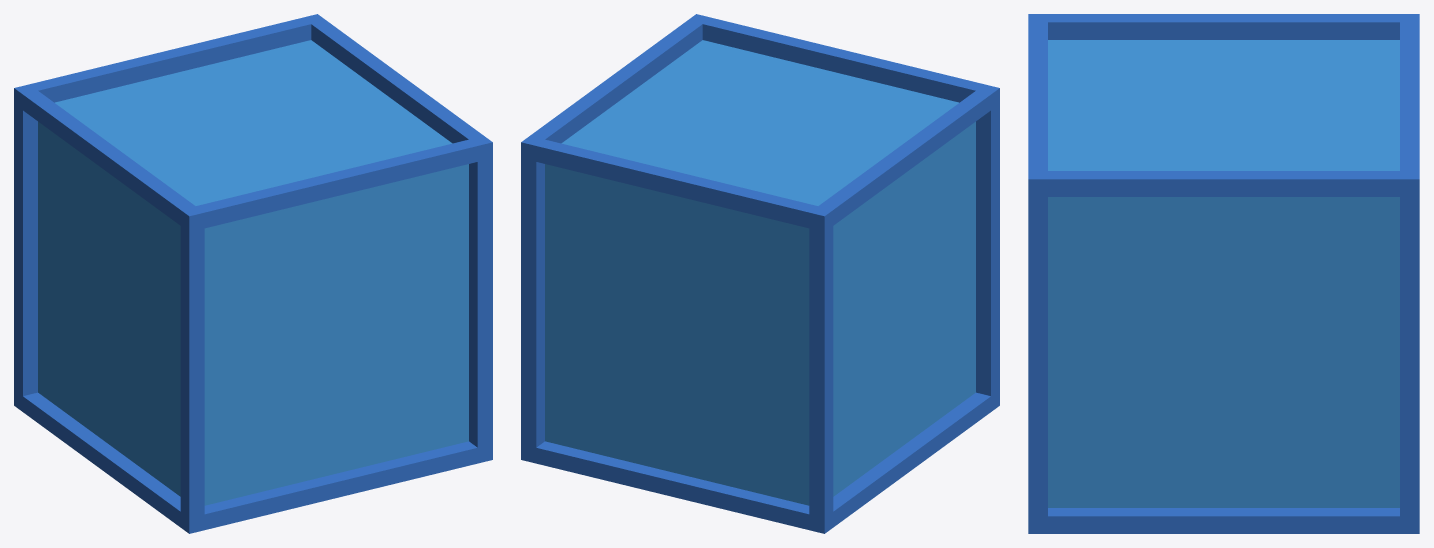
Rendered from 1mBasicCube.fbx.
The picture shows the model from 3 angles, left to right: view 1: azimuth 30°, elevation 25°; view 2: azimuth 150°, elevation 25°; view 3: azimuth 270°, elevation 25°; orthographic projection. The views are drawn at different scales.
Parts seen in each view (by area): view 1: 1Cube.001; view 2: 1Cube.001; view 3: 1Cube.001.
Boxes of the visible parts, left/top/right/bottom form: 1Cube.001: left=14, top=14, right=492, bottom=533; 1Cube.001: left=521, top=14, right=999, bottom=533; 1Cube.001: left=1028, top=14, right=1419, bottom=533.
Size of the model in its own units: 100 by 100 by 100.
